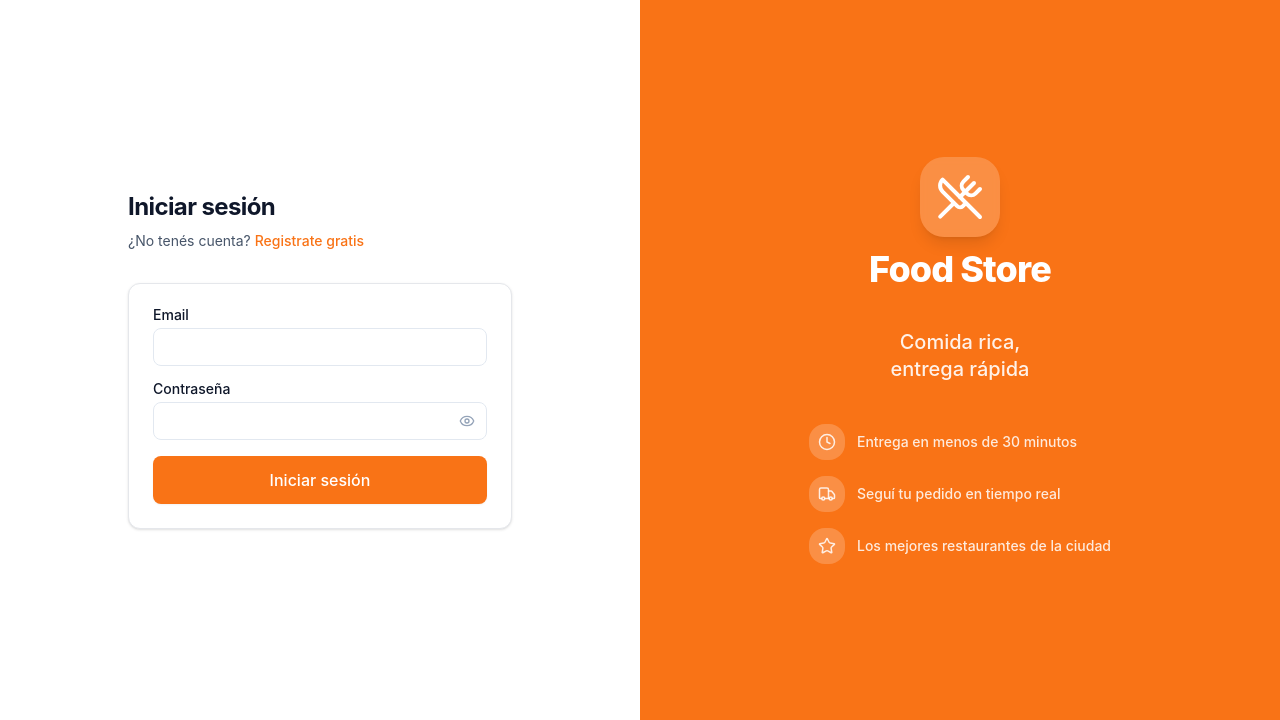
Test case: LoginPage › shows validation errors for empty form submit
Step 1. Click the button "Iniciar sesión" → (320, 480), box [153, 456, 487, 504]
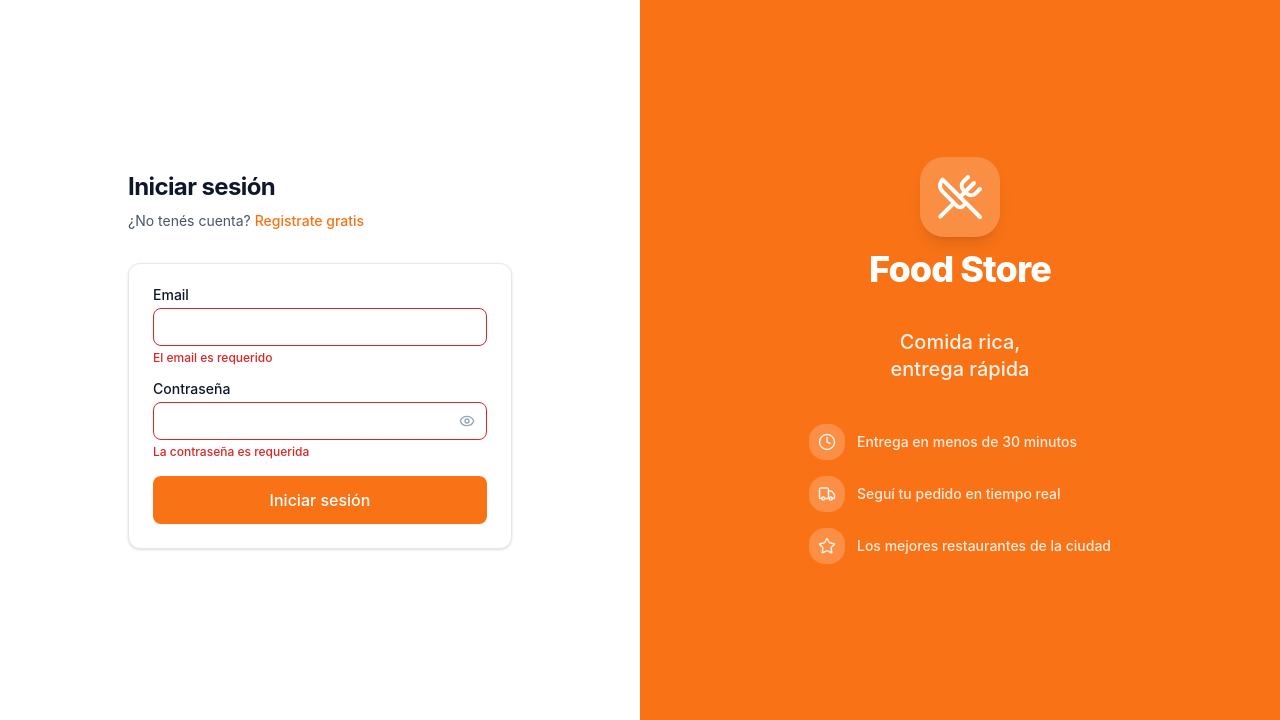
Now the text "El email es requerido" is shown, box [153, 350, 272, 365]
